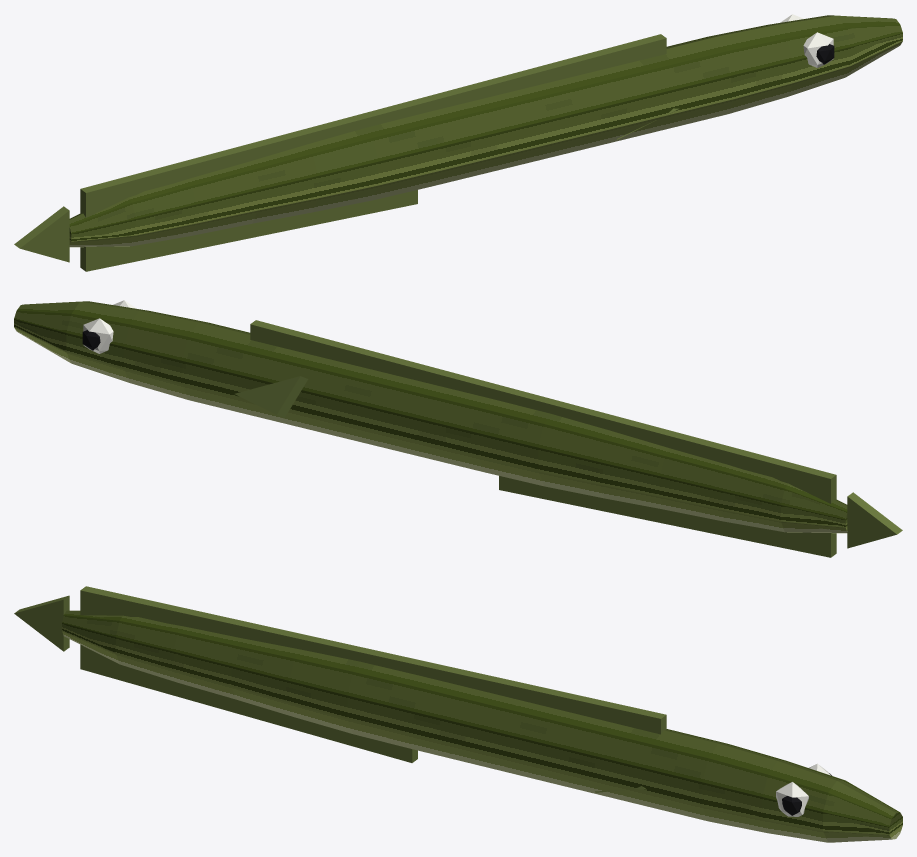
The model's file is giant_kelpfish.glb.
3 views of the same model, one above another, from view 1: azimuth 30°, elevation 25°; view 2: azimuth 150°, elevation 25°; view 3: azimuth 330°, elevation 25° (orthographic).
Parts seen in each view (by area): view 1: fish_giant_kelpfish; view 2: fish_giant_kelpfish; view 3: fish_giant_kelpfish.
Part boxes in pixels (x1,y1,x2,y2): fish_giant_kelpfish: (14,14,902,271); fish_giant_kelpfish: (14,300,902,557); fish_giant_kelpfish: (14,586,902,842).
Size of the model in its own units: 1.06 by 0.121 by 0.1047.
4 materials, 1 textured.
